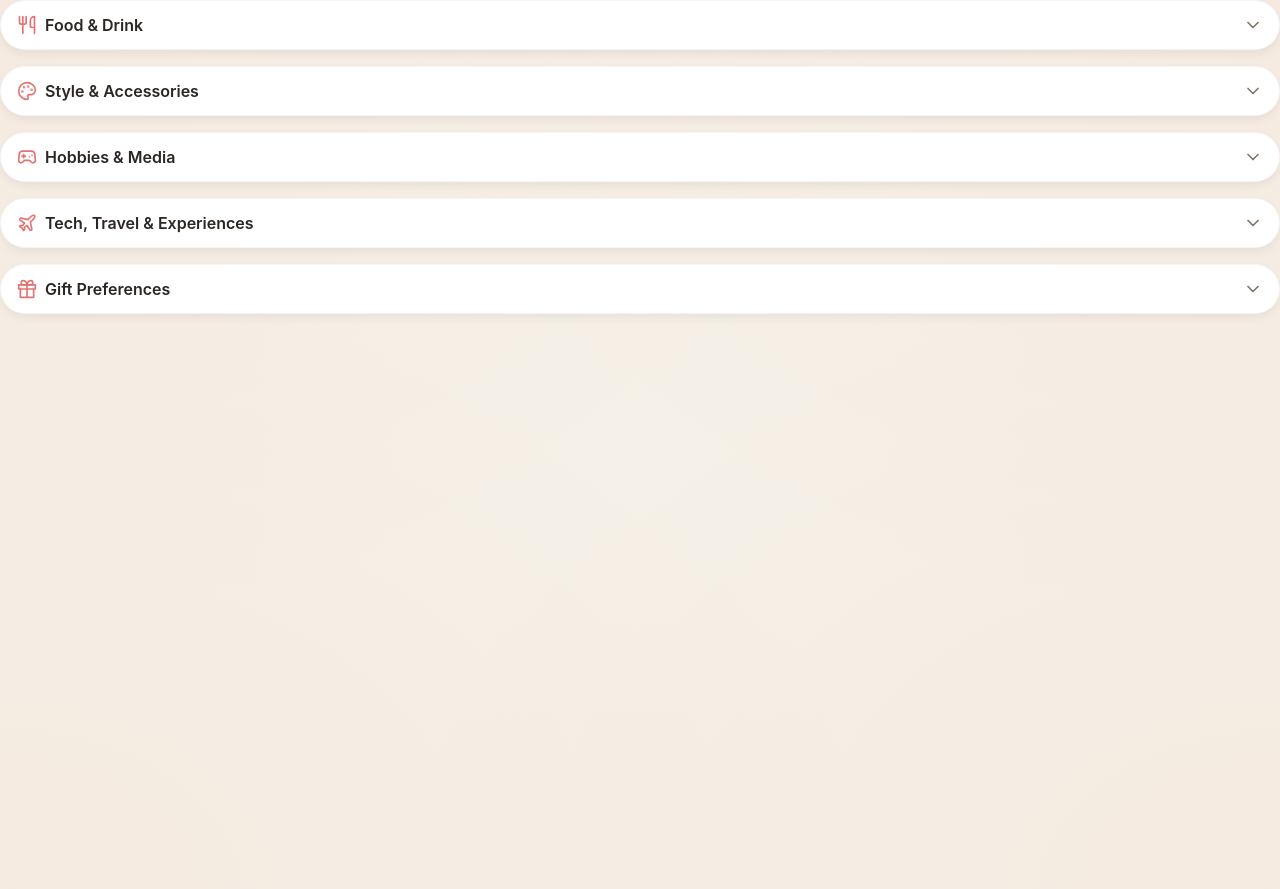
Test case: AdvancedInterestsEdit › pre-populates chip input with likes_wine enabled
This screenshot has width=1280, height=889.
Note: Expand Food & Drink section
Step 1. Click the button "Food & Drink" → x=94, y=25, box [1,1,1279,49]
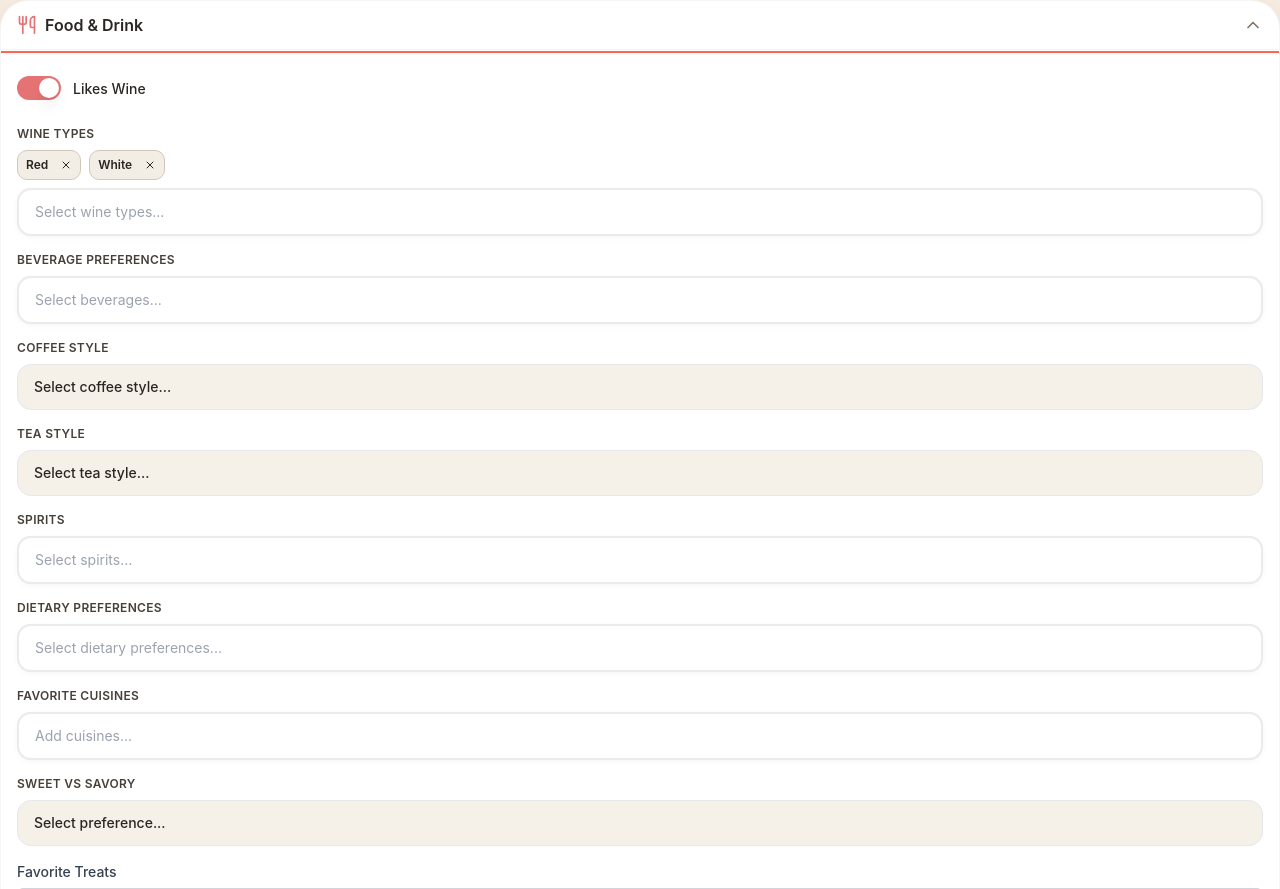
Expected: the text "Red" is shown, [17,150,81,180]
Expected: the text "White" is shown, [89,150,165,180]
